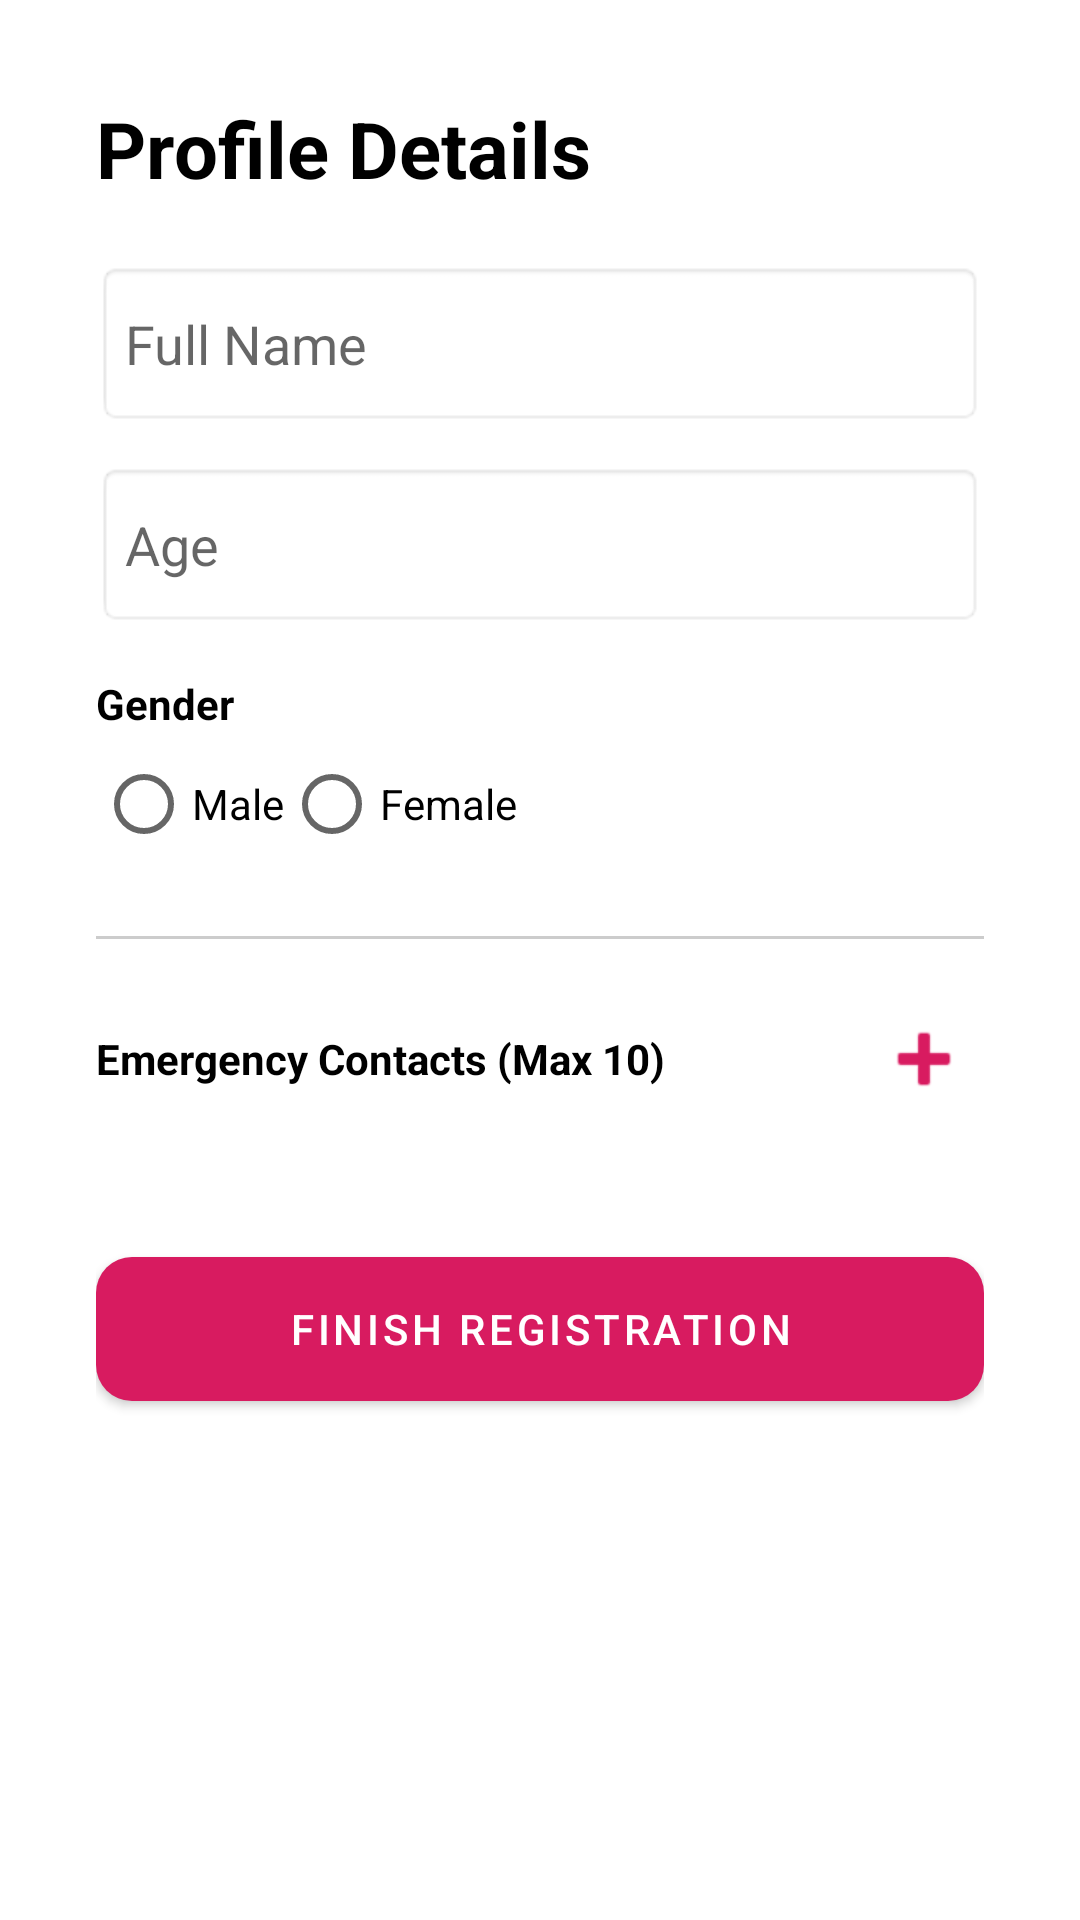

Icons on this 1080w x 1920h Android screen, each with its box as (x1, y1, x2, y2):
add: (897, 1032, 951, 1086)
